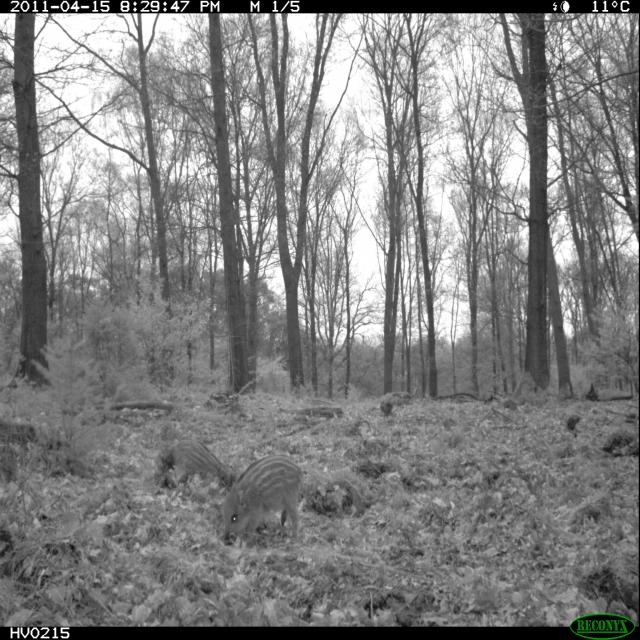boar: (165, 415, 362, 559), (145, 428, 240, 516)
